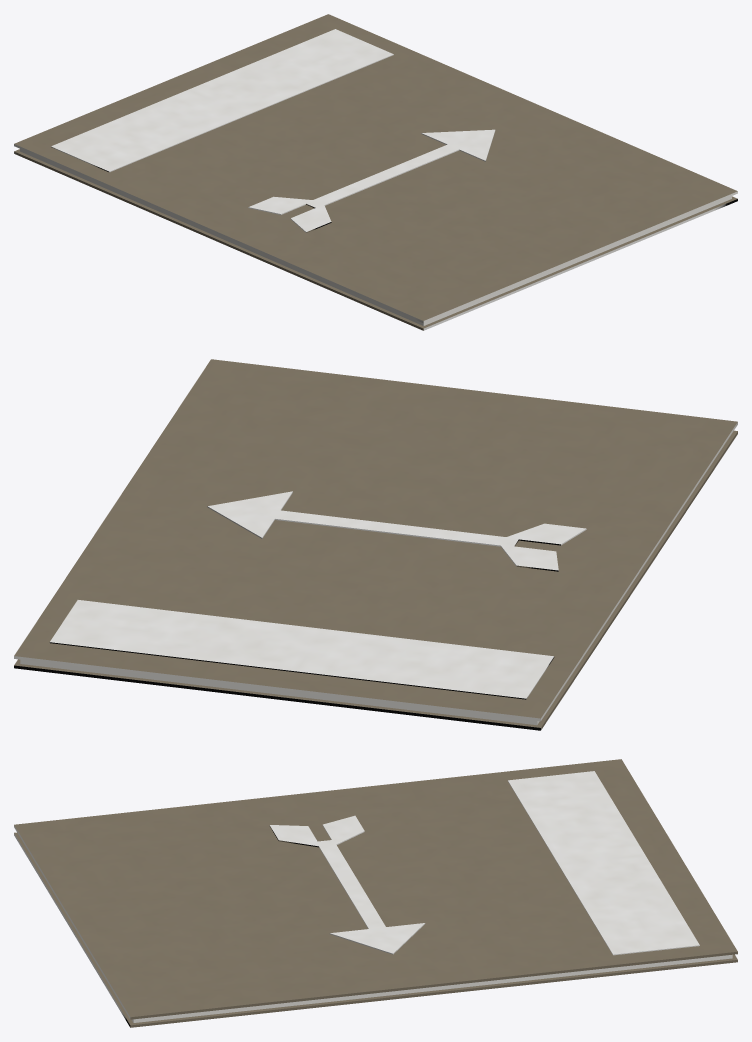
Rendered from FL_ArcheryMag4.fbx.
3 renders of one model, top to bottom at view 1: azimuth 30°, elevation 25°; view 2: azimuth 150°, elevation 25°; view 3: azimuth 270°, elevation 25°, orthographic. The views are drawn at different scales.
Visible parts, largest first — view 1: FL_ArcheryMag4; view 2: FL_ArcheryMag4; view 3: FL_ArcheryMag4.
Boxes of the visible parts, bbox=[...] form: FL_ArcheryMag4: bbox=[14, 14, 737, 330]; FL_ArcheryMag4: bbox=[14, 359, 737, 730]; FL_ArcheryMag4: bbox=[14, 759, 737, 1027].
Size of the model in its own units: 0.0227 by 0.000475 by 0.0269.
